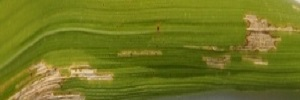RiceBacterialBlight: (200, 12, 295, 76), (8, 58, 116, 100)
